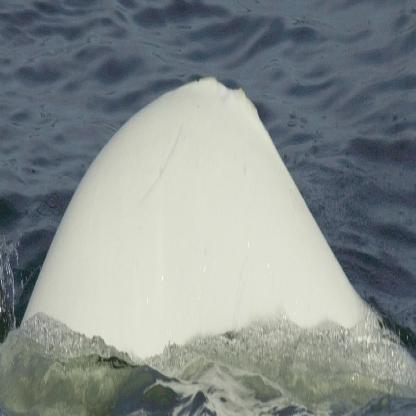dolphin-whale: (15, 64, 388, 362)
